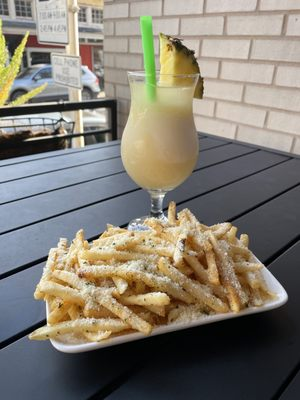soup: (30, 202, 283, 352)
